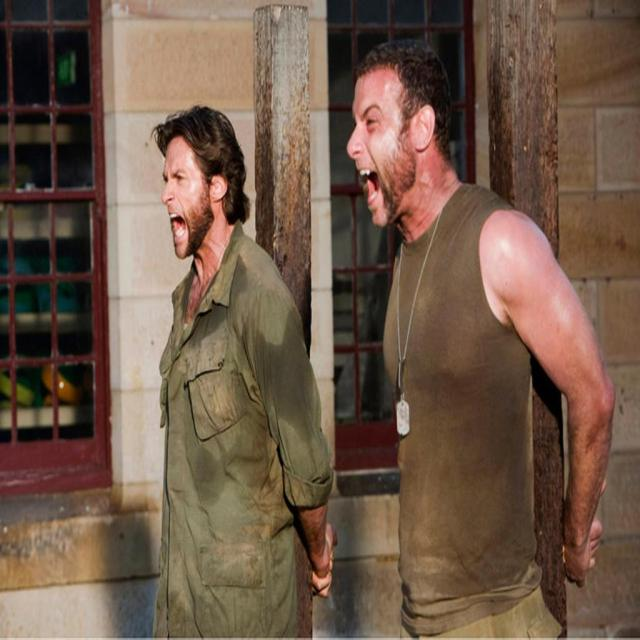Face: (338, 66, 419, 232), (154, 130, 222, 274)
